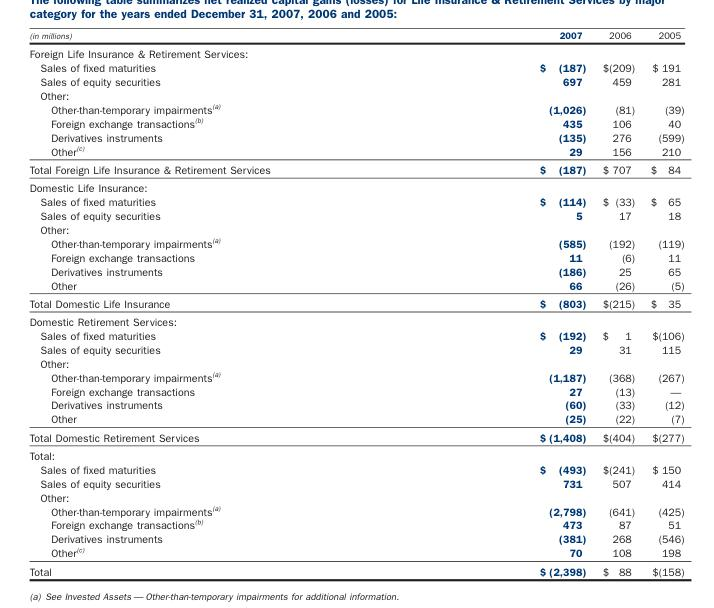table: (28, 29, 683, 576)
table column: (28, 29, 404, 576), (404, 29, 593, 576), (593, 29, 641, 576), (641, 29, 683, 576)
table column header: (28, 29, 683, 43)
table projected row header: (28, 43, 683, 60), (28, 178, 683, 194), (28, 312, 683, 328), (28, 445, 683, 461), (28, 489, 683, 503), (28, 88, 683, 101), (28, 222, 683, 235), (28, 356, 683, 369)
table row: (28, 159, 683, 178), (28, 293, 683, 312), (28, 427, 683, 445), (28, 43, 683, 60), (28, 544, 683, 561), (28, 143, 683, 159), (28, 178, 683, 194), (28, 277, 683, 293), (28, 312, 683, 328), (28, 411, 683, 427), (28, 445, 683, 461), (28, 516, 683, 531), (28, 561, 683, 576), (28, 29, 683, 43), (28, 60, 683, 74), (28, 74, 683, 88), (28, 101, 683, 115), (28, 115, 683, 129), (28, 129, 683, 143), (28, 194, 683, 208), (28, 208, 683, 222), (28, 235, 683, 249), (28, 249, 683, 263), (28, 263, 683, 277), (28, 328, 683, 342), (28, 342, 683, 356), (28, 369, 683, 383), (28, 383, 683, 397), (28, 397, 683, 411), (28, 461, 683, 475), (28, 475, 683, 489), (28, 489, 683, 503), (28, 88, 683, 101), (28, 222, 683, 235), (28, 356, 683, 369), (28, 503, 683, 516), (28, 531, 683, 544)
